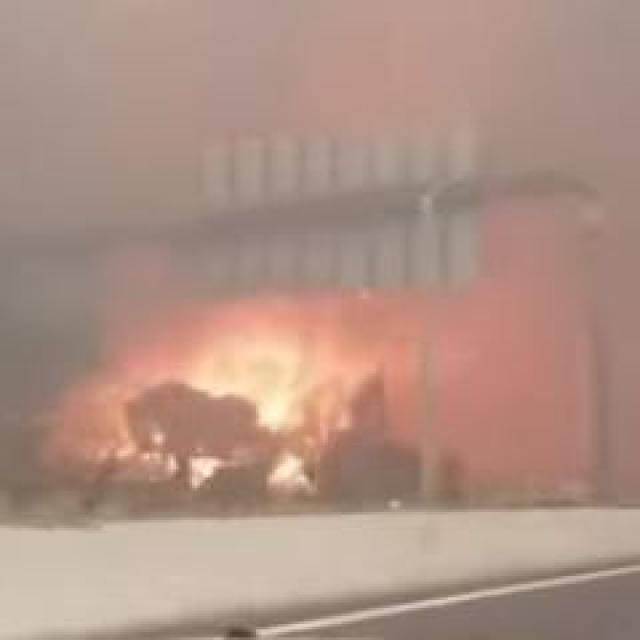Fire: (124, 287, 372, 460)
Smoke: (2, 0, 640, 458)
